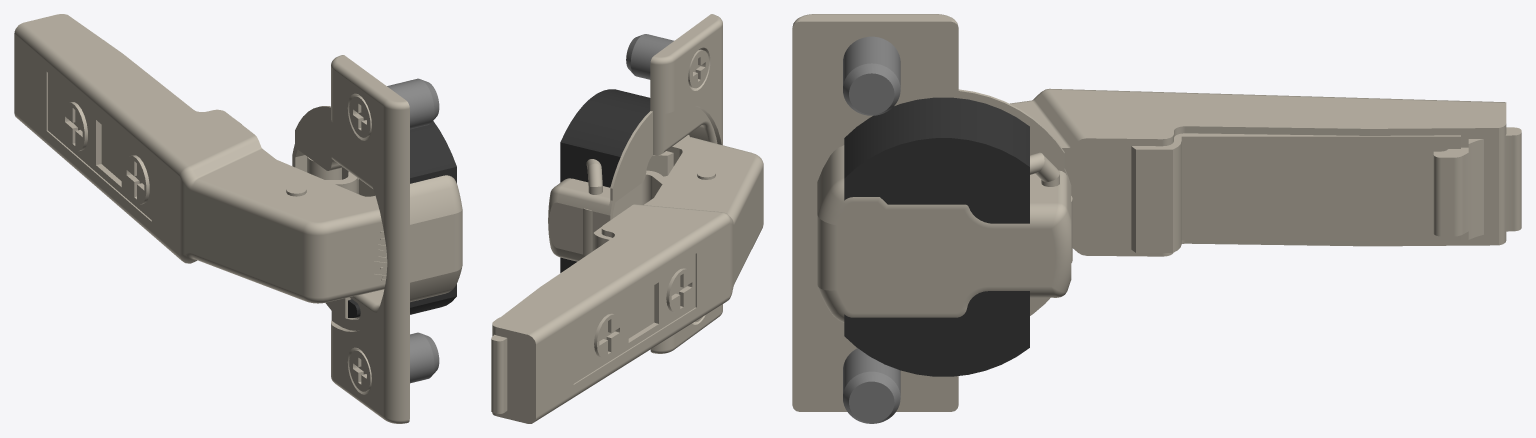
3 renders of one model, left to right at view 1: azimuth 30°, elevation 25°; view 2: azimuth 150°, elevation 25°; view 3: azimuth 270°, elevation 25°, orthographic. The views are drawn at different scales.
Visible parts, largest first — view 1: bau0016451269-1, bau0015166285-1, bau0059100308-2, bau0059100308-1, bau0015167363-1; view 2: bau0016451269-1, bau0015166285-1, bau0059100308-2, bau0019426112-2, bau0015167363-1, bau0122857638-1; view 3: bau0015166285-1, bau0019426112-2, bau0016451269-1, bau0059100308-2, bau0059100308-1.
Boxes of the visible parts, x1,y1,x2,y2 form: bau0016451269-1: (14,14,387,303); bau0015166285-1: (292,55,462,423); bau0059100308-2: (349,78,439,137); bau0059100308-1: (349,332,439,391); bau0015167363-1: (307,156,358,194); bau0016451269-1: (492,135,763,423); bau0015166285-1: (548,14,722,353); bau0059100308-2: (626,34,708,88); bau0019426112-2: (491,227,611,413); bau0015167363-1: (583,170,667,255); bau0122857638-1: (646,151,673,176); bau0015166285-1: (792,14,1071,411); bau0019426112-2: (1131,127,1521,252); bau0016451269-1: (1010,88,1506,256); bau0059100308-2: (843,36,900,115); bau0059100308-1: (843,348,900,423).
Bounding box in the file's own units: 35.78 × 57 × 96.5.
